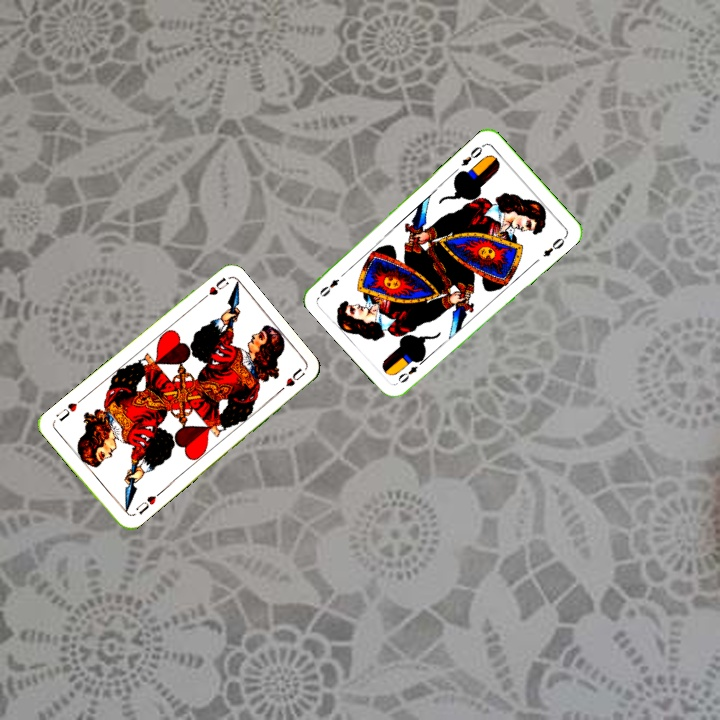EO: (394, 355, 427, 385), (457, 142, 485, 169)
HU: (196, 273, 231, 305), (131, 491, 159, 517)
